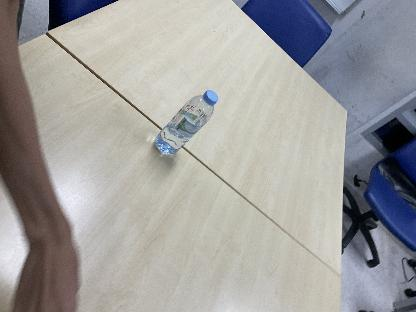Plastic Bottle: (156, 90, 218, 158)
